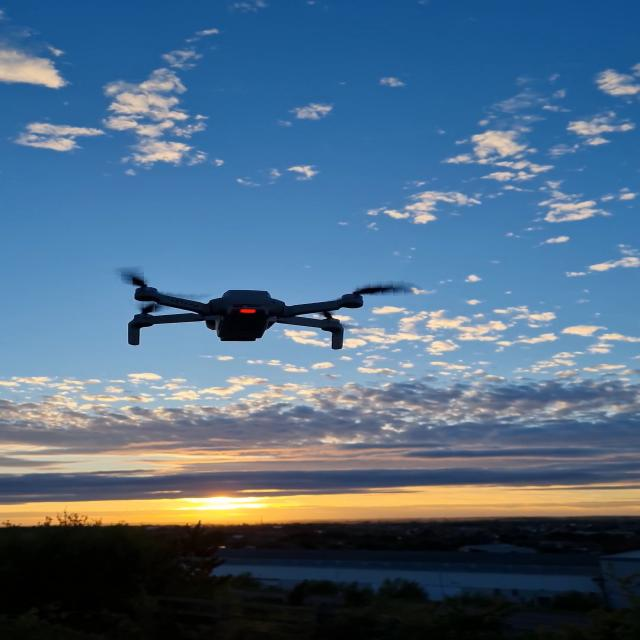Drone: (104, 258, 416, 376)
